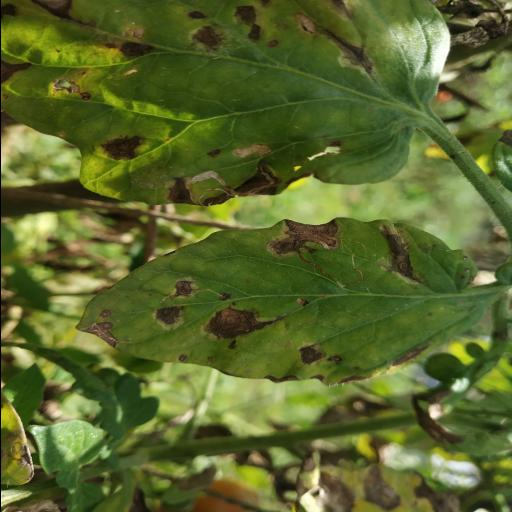disease_tomato: (0, 0, 450, 209), (72, 215, 480, 387)
